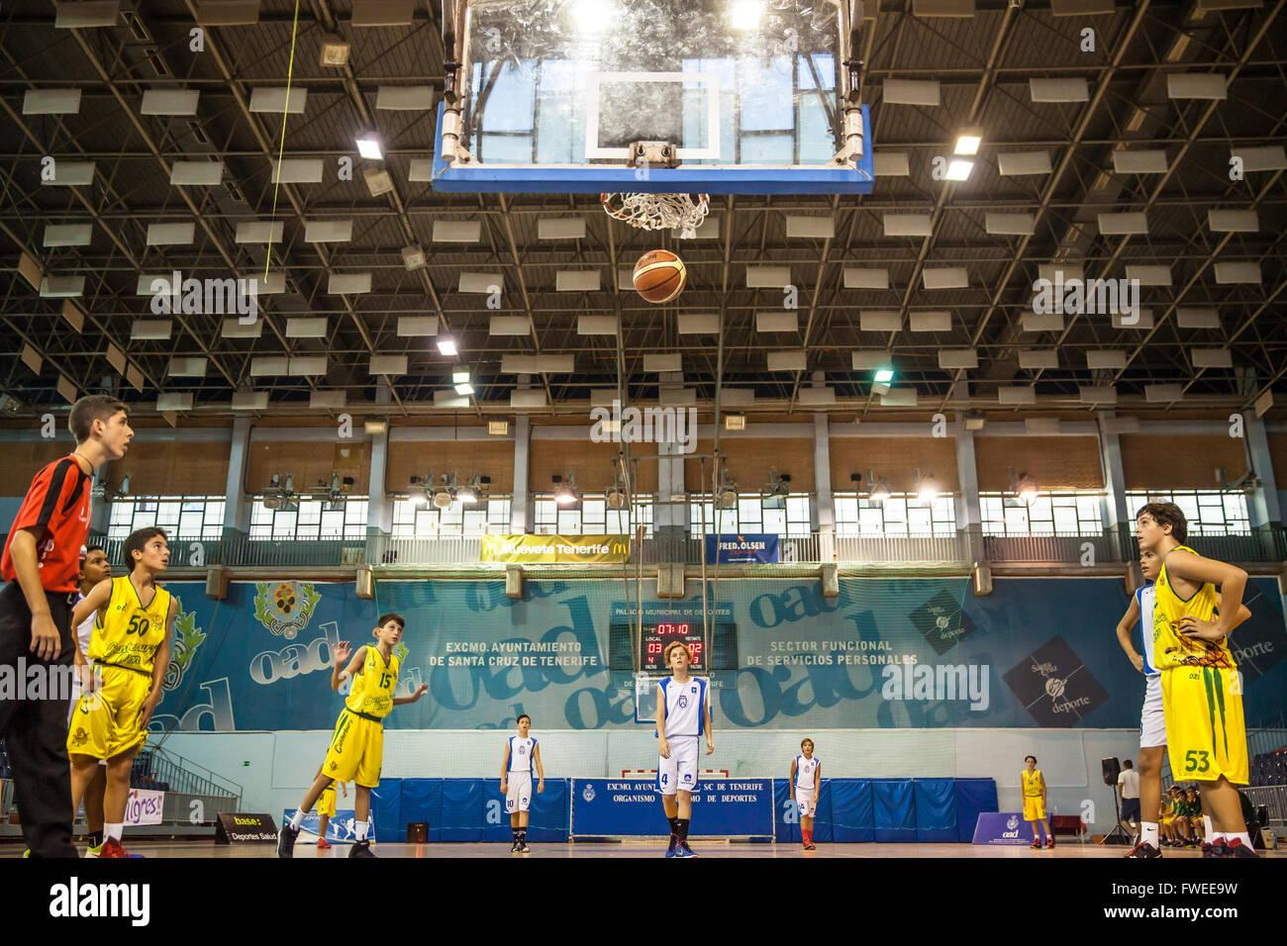basketball: (629, 250, 689, 304)
